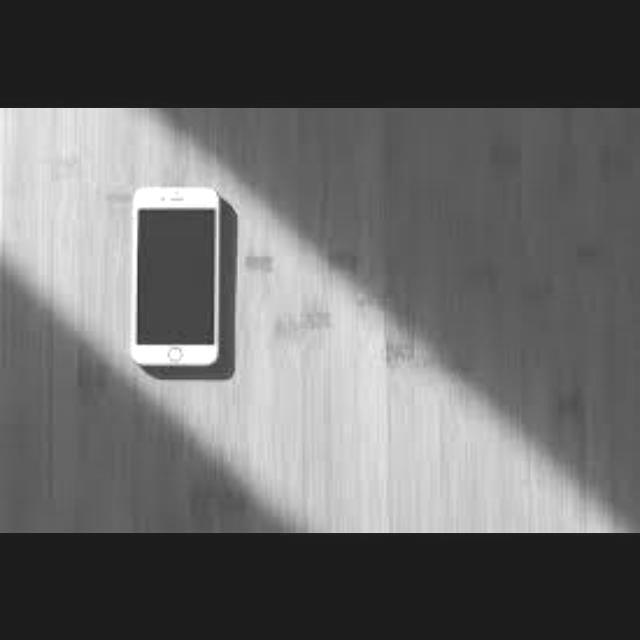fake: (130, 198, 229, 378)
